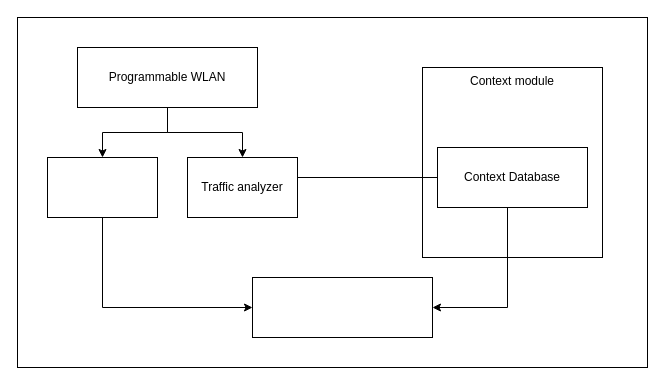
Image size: 665x385. Some labels were removed from this diagram. The box of each missing label's shape, as (x1, y1, x2, y2) in pixels:
Aggregation module (FAFA): (46, 156, 158, 218)
Fairness Algorithm: (252, 276, 432, 338)
